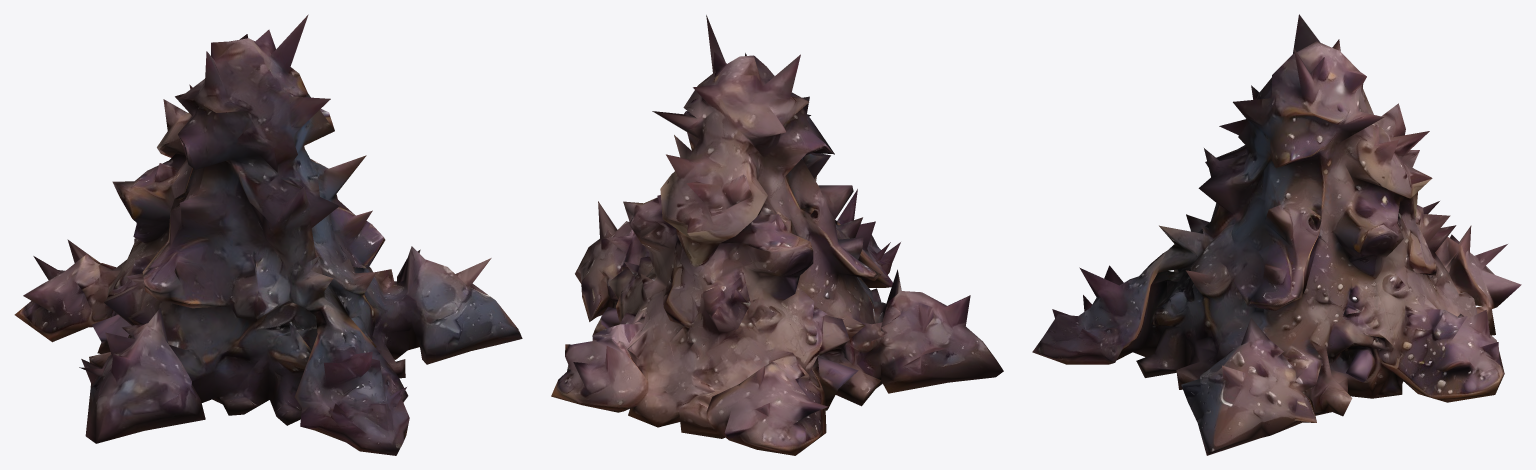
Rendered from e_chitin.glb.
3 views of the same model, side by side, from view 1: azimuth 30°, elevation 25°; view 2: azimuth 150°, elevation 25°; view 3: azimuth 270°, elevation 25° (orthographic).
Visible parts, largest first — view 1: tripo_node_6c7510fb-a71c-4ad0-abda-c4c387d8b168; view 2: tripo_node_6c7510fb-a71c-4ad0-abda-c4c387d8b168; view 3: tripo_node_6c7510fb-a71c-4ad0-abda-c4c387d8b168.
Boxes of the visible parts, bbox=[...] form: tripo_node_6c7510fb-a71c-4ad0-abda-c4c387d8b168: bbox=[14, 14, 522, 455]; tripo_node_6c7510fb-a71c-4ad0-abda-c4c387d8b168: bbox=[551, 15, 1003, 455]; tripo_node_6c7510fb-a71c-4ad0-abda-c4c387d8b168: bbox=[1032, 14, 1521, 455].
Size of the model in its own units: 0.9912 by 0.7377 by 1.
Materials: 1 (1 with a texture image).
